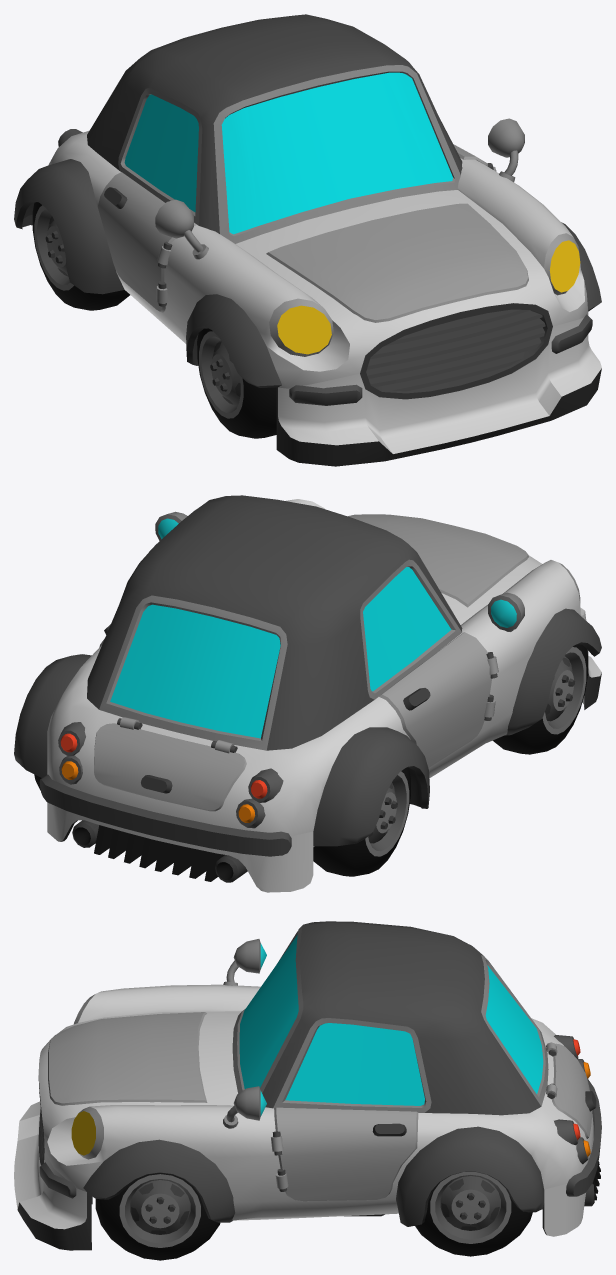
File: VEH16-A.fbx
3 renders of one model, top to bottom at view 1: azimuth 30°, elevation 25°; view 2: azimuth 150°, elevation 25°; view 3: azimuth 270°, elevation 25°, orthographic. The views are drawn at different scales.
Parts seen in each view (by area): view 1: VEH16_A, V16A_Wheel_FR, V16A_Wheel_BR; view 2: VEH16_A, V16A_Wheel_FR, V16A_Wheel_BR; view 3: VEH16_A, V16A_Wheel_FL, V16A_Wheel_BL.
Boxes of the visible parts, x1,y1,x2,y2 form: VEH16_A: [14, 14, 601, 466]; V16A_Wheel_FR: [197, 328, 276, 438]; V16A_Wheel_BR: [32, 202, 129, 310]; VEH16_A: [14, 495, 601, 892]; V16A_Wheel_FR: [492, 644, 588, 754]; V16A_Wheel_BR: [313, 767, 410, 876]; VEH16_A: [14, 921, 601, 1250]; V16A_Wheel_FL: [95, 1172, 220, 1260]; V16A_Wheel_BL: [415, 1172, 532, 1256].
Size of the model in its own units: 264 by 186 by 405.
1 material, 1 textured.
